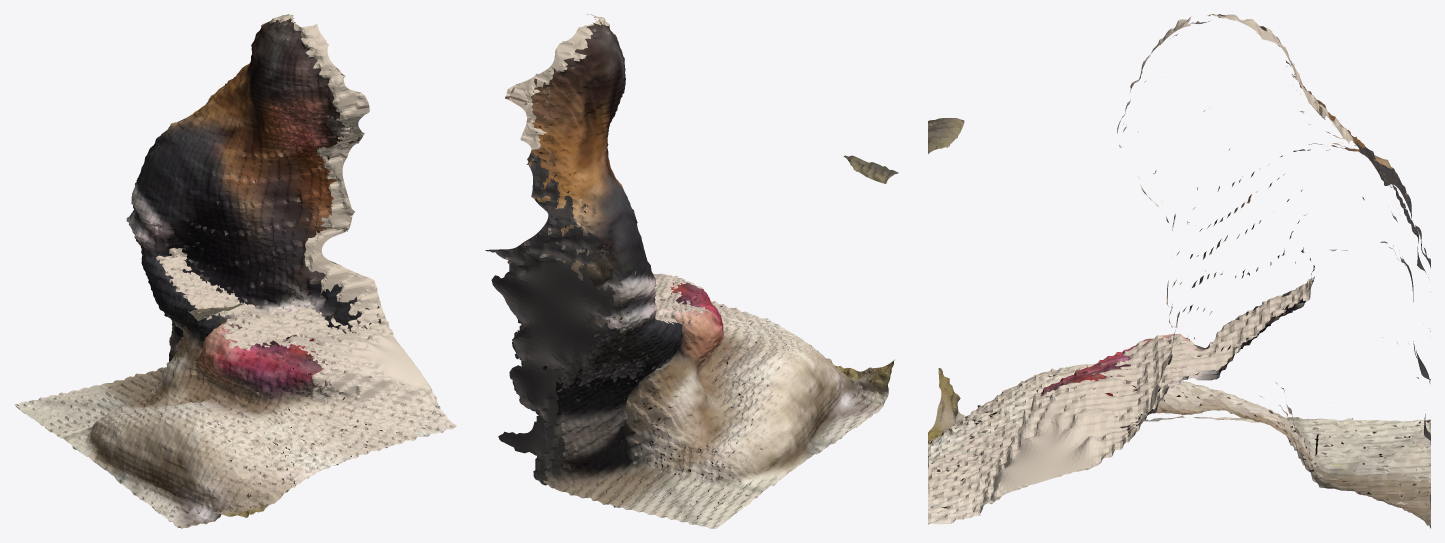
3 views of the same model, side by side, from view 1: azimuth 30°, elevation 25°; view 2: azimuth 150°, elevation 25°; view 3: azimuth 270°, elevation 25° (orthographic). The views are drawn at different scales.
Size of the model in its own units: 0.5465 by 0.8003 by 0.6712.
Materials: 1 (1 with a texture image).
